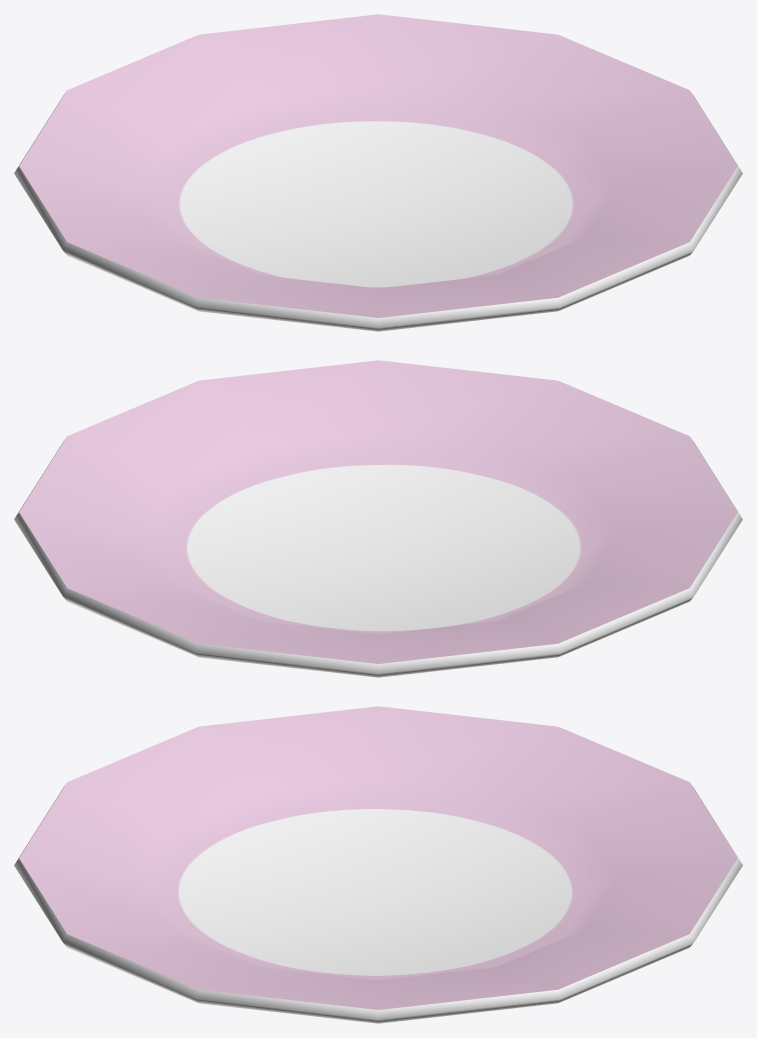
The model's file is plate1.fbx.
3 views of the same model, one above another, from view 1: azimuth 30°, elevation 25°; view 2: azimuth 150°, elevation 25°; view 3: azimuth 270°, elevation 25° (orthographic).
Parts seen in each view (by area): view 1: pCylinder4; view 2: pCylinder4; view 3: pCylinder4.
Part boxes in pixels (x1=…): pCylinder4: x1=14, y1=14, x2=742, y2=331; pCylinder4: x1=14, y1=360, x2=742, y2=677; pCylinder4: x1=14, y1=706, x2=742, y2=1023.
Bounding box in the file's own units: 1.31 × 0.0906 × 1.31.
1 material, 1 textured.
